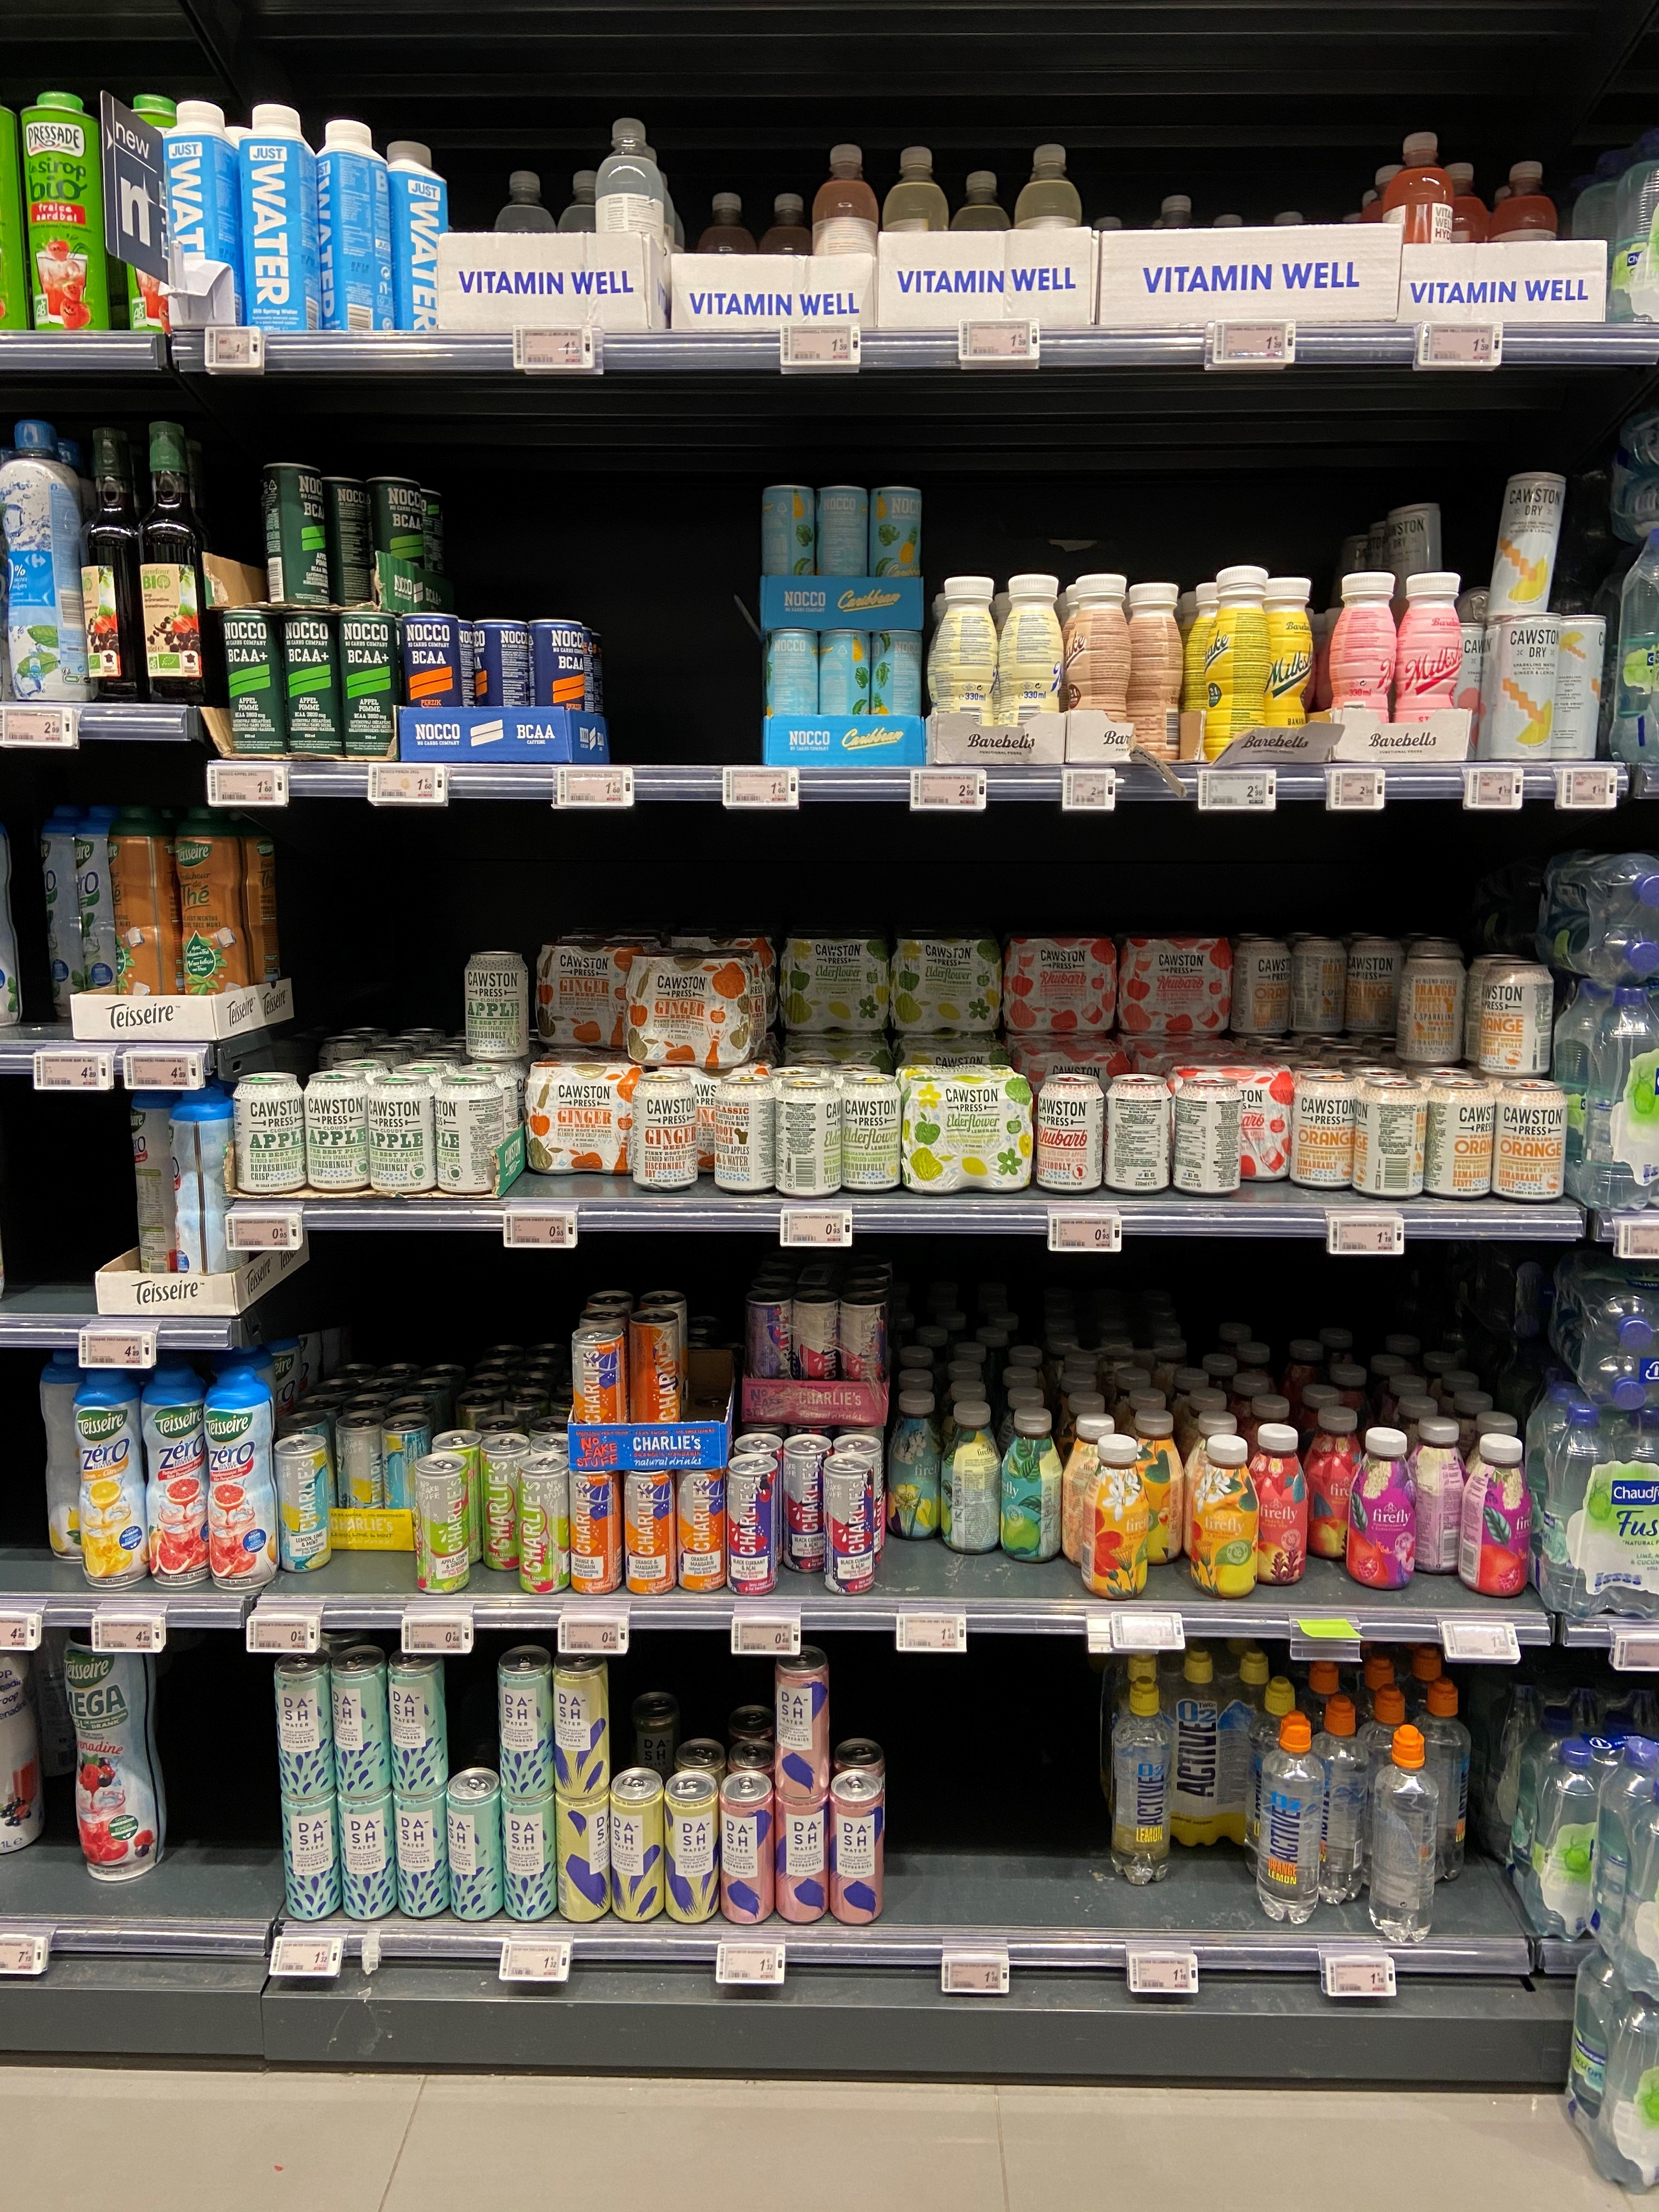ActiveO2Lemon: (1110, 1677, 1173, 1888)
ActiveO2OrangeLemon: (1368, 1724, 1439, 1946), (1304, 1695, 1370, 1905), (1258, 1712, 1319, 1926), (1410, 1677, 1471, 1879)
BarebellsBanana: (1208, 564, 1272, 759), (1260, 577, 1314, 759)
BarebellsChocolate: (1065, 573, 1133, 752), (1127, 583, 1185, 752)
BarebellsStrawberry: (1398, 573, 1467, 752), (1330, 573, 1398, 754)
BarebellsVanilla: (934, 577, 999, 759), (1000, 575, 1065, 758)
CarrefourBioGrenadine: (138, 421, 207, 707), (80, 425, 143, 702)
CarrefourGrenadine: (0, 418, 98, 704)
CawstonApple: (234, 1073, 305, 1195), (432, 1075, 504, 1195), (368, 1073, 437, 1193), (303, 1069, 369, 1195), (462, 951, 528, 1061)
CawstonDry: (1486, 474, 1567, 620), (1490, 613, 1561, 763), (1549, 615, 1607, 761)
CawstonElderflower33cl: (774, 1078, 843, 1198), (840, 1073, 903, 1193)
CawstonElderflower6x33cl: (899, 1066, 1033, 1193), (890, 939, 1002, 1035), (779, 939, 887, 1035)
CawstonGinger33cl: (627, 1073, 697, 1191), (713, 1075, 775, 1193)
CawstonGinger6x33cl: (627, 951, 762, 1062), (533, 942, 660, 1052), (526, 1062, 648, 1172)
CawstonOrange: (1493, 1078, 1568, 1204), (1478, 961, 1554, 1078), (1354, 1078, 1427, 1198), (1424, 1075, 1493, 1200), (1290, 1071, 1359, 1191), (1396, 956, 1467, 1066), (1229, 939, 1291, 1036), (1290, 937, 1349, 1036), (1347, 937, 1405, 1036)
CawstonRhubarb33cl: (1103, 1073, 1173, 1195), (1037, 1073, 1107, 1193), (1175, 1076, 1243, 1195)
CawstonRhubarb6x33cl: (1121, 937, 1229, 1036), (1004, 939, 1115, 1035)
CharliesAppleLemonGinger: (413, 1453, 469, 1597), (519, 1453, 572, 1595), (483, 1433, 532, 1571)
CharliesBlackCurrantAcai: (823, 1453, 877, 1597), (727, 1454, 779, 1594), (782, 1435, 831, 1575), (746, 1289, 795, 1413), (791, 1289, 840, 1413), (840, 1289, 889, 1411)
CharliesLemonLimeMint: (275, 1433, 333, 1573), (335, 1413, 385, 1529), (383, 1413, 432, 1531)
CharliesOrangeMandarin: (570, 1327, 627, 1461), (622, 1463, 676, 1595), (568, 1465, 622, 1595), (631, 1310, 681, 1442), (678, 1460, 727, 1594)
ChaudfontaineFusionLimeMintCucumber: (1527, 1386, 1659, 1623), (1551, 1264, 1659, 1409)
DashCucumber: (274, 1649, 336, 1799), (446, 1768, 504, 1923), (331, 1646, 389, 1797), (497, 1646, 554, 1797), (389, 1648, 446, 1797), (279, 1794, 342, 1921), (336, 1791, 397, 1921), (500, 1789, 558, 1921), (394, 1789, 450, 1919)
DashLemons: (552, 1648, 610, 1799), (664, 1768, 720, 1923), (612, 1768, 666, 1923), (556, 1785, 612, 1925)
DashRaspberries: (774, 1644, 833, 1797), (720, 1768, 775, 1926), (831, 1768, 885, 1926), (775, 1787, 831, 1925)
FireflyKiwiLimeMint: (1002, 1407, 1065, 1562), (941, 1399, 1002, 1554), (887, 1388, 943, 1541)
FireflyLemonLimeGinger: (1190, 1433, 1260, 1599), (1082, 1433, 1150, 1599), (1124, 1409, 1185, 1566)
FireflyPeachGreenTea: (1304, 1406, 1368, 1559), (1249, 1423, 1309, 1588)
FireflyPomegranateElderflower: (1457, 1433, 1535, 1599), (1347, 1428, 1417, 1592), (1403, 1416, 1471, 1576)
JustWater: (157, 101, 246, 336), (237, 103, 322, 340), (314, 118, 392, 336), (382, 139, 450, 338)
NoccoApple: (263, 463, 329, 608), (221, 611, 282, 761), (340, 611, 397, 765), (282, 611, 340, 761), (366, 475, 422, 611), (315, 475, 369, 608)
NoccoCaribbean: (819, 629, 875, 765), (765, 629, 821, 763), (762, 484, 816, 620), (868, 484, 922, 617), (816, 484, 868, 615), (873, 629, 924, 763)
NoccoPeach: (401, 613, 460, 759), (530, 620, 586, 756), (474, 620, 530, 752)
Pressade: (17, 89, 110, 333)
TeisseireCitroen: (73, 1357, 148, 1588), (40, 1348, 99, 1561)
TeisseireGrenadine: (61, 1613, 169, 1881)
TeisseireMojito: (77, 801, 132, 1031), (40, 799, 85, 1019)
TeisseirePompelmoes: (169, 1075, 247, 1308), (143, 1362, 211, 1590), (206, 1364, 274, 1588), (131, 1078, 193, 1298)
TeisseireThe: (174, 803, 251, 1024), (113, 801, 183, 1031)
VitaminWellDefence: (882, 145, 951, 314), (1012, 143, 1080, 312)
VitaminWellHydrate: (810, 139, 878, 331), (1385, 129, 1457, 310)
VitaminWellReload: (598, 115, 664, 314)
